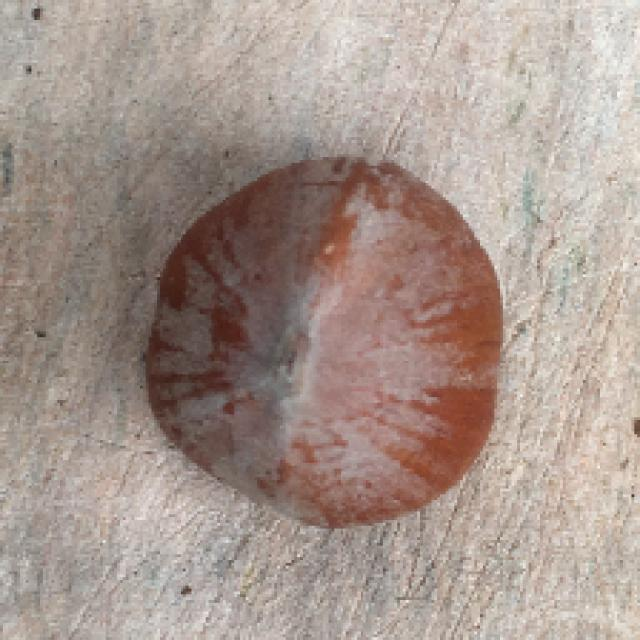qualityHazelnut: (134, 152, 503, 528)
